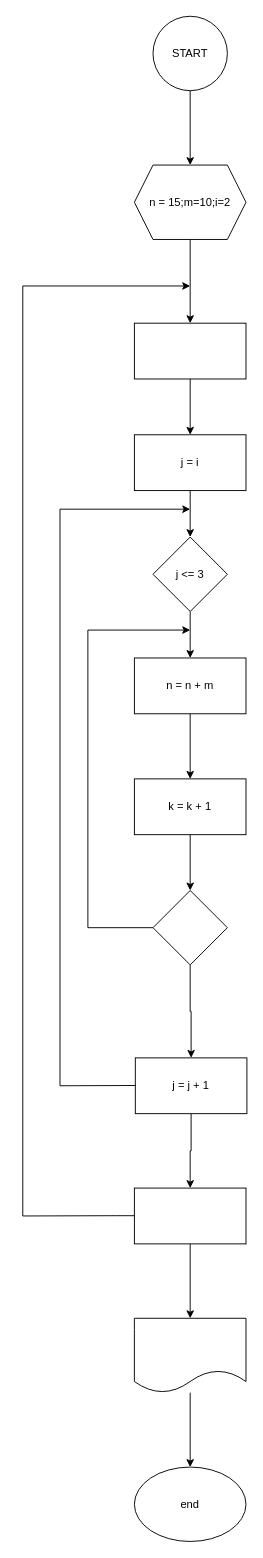
This 263x1558 diagram has some shape labels left out. Here are the shapes that lost their labels. From the top down, the centre of each, then its label:
At pixel 189 350: "For i=2 to 5".
At pixel 189 927: "k <= 3".
At pixel 189 1215: "next i".
At pixel 189 1355: "print n".
